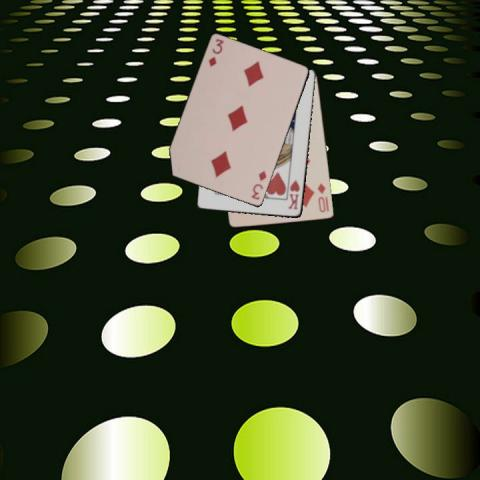10d: (314, 181, 330, 214)
3d: (249, 168, 268, 201), (206, 36, 225, 69)
Kh: (286, 178, 302, 212)
